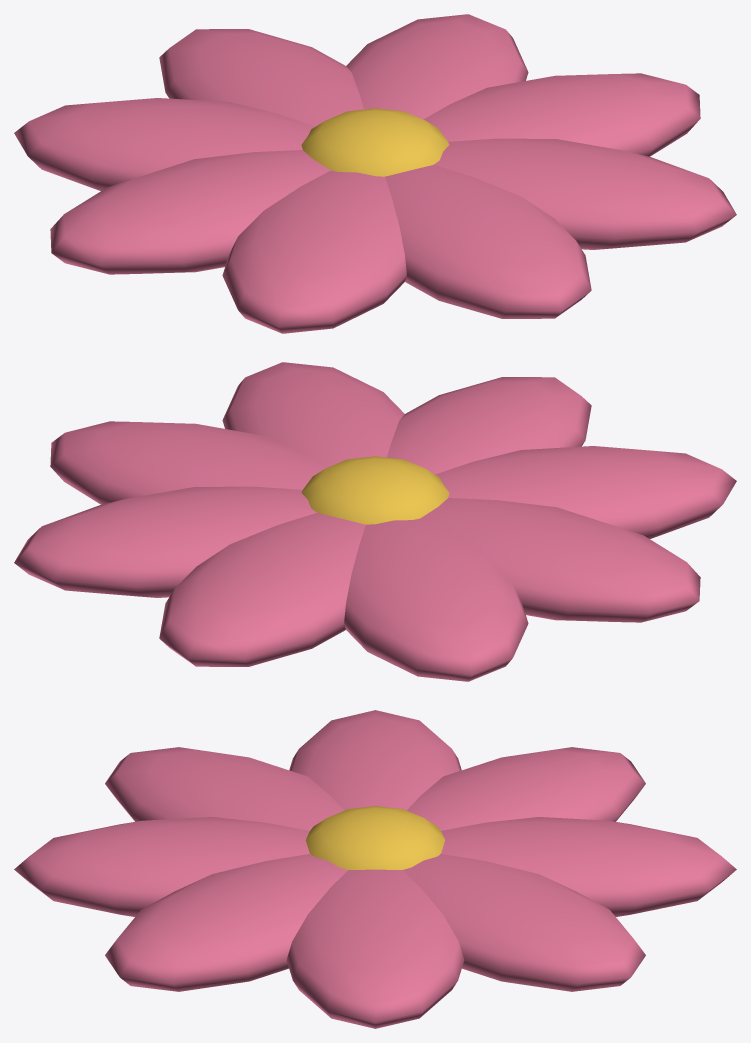
File: flower-eight.glb
3 views of the same model, one above another, from view 1: azimuth 30°, elevation 25°; view 2: azimuth 150°, elevation 25°; view 3: azimuth 270°, elevation 25° (orthographic). The views are drawn at different scales.
Parts seen in each view (by area): view 1: tint-petal-3, tint-petal-2, tint-petal-4, tint-petal-1, tint-petal-5, tint-petal-0, tint-petal-6, tint-petal-7, flower-eight; view 2: tint-petal-5, tint-petal-6, tint-petal-4, tint-petal-7, tint-petal-3, tint-petal-0, tint-petal-2, tint-petal-1, flower-eight; view 3: tint-petal-0, tint-petal-1, tint-petal-7, tint-petal-2, tint-petal-6, tint-petal-3, tint-petal-5, tint-petal-4, flower-eight.
Part boxes in pixels (x1,y1,x2,y2): tint-petal-3: [222, 170, 406, 333]; tint-petal-2: [385, 165, 591, 318]; tint-petal-4: [50, 150, 330, 274]; tint-petal-1: [434, 138, 736, 249]; tint-petal-5: [14, 98, 315, 190]; tint-petal-0: [423, 73, 700, 156]; tint-petal-6: [159, 29, 363, 126]; tint-petal-7: [346, 14, 528, 119]; flower-eight: [301, 108, 449, 176]; tint-petal-5: [344, 518, 528, 681]; tint-petal-6: [159, 513, 365, 666]; tint-petal-4: [420, 498, 700, 622]; tint-petal-7: [14, 486, 316, 597]; tint-petal-3: [435, 446, 736, 538]; tint-petal-0: [50, 421, 327, 504]; tint-petal-2: [387, 377, 591, 474]; tint-petal-1: [222, 362, 404, 467]; flower-eight: [301, 456, 449, 524]; tint-petal-0: [286, 869, 464, 1028]; tint-petal-1: [105, 854, 347, 991]; tint-petal-7: [403, 854, 645, 991]; tint-petal-2: [14, 817, 309, 916]; tint-petal-6: [441, 817, 736, 916]; tint-petal-3: [105, 747, 343, 830]; tint-petal-5: [407, 747, 645, 830]; tint-petal-4: [289, 710, 461, 810]; flower-eight: [305, 806, 445, 869].
Bounding box in the file's own units: 1.06 × 0.1383 × 1.06.
